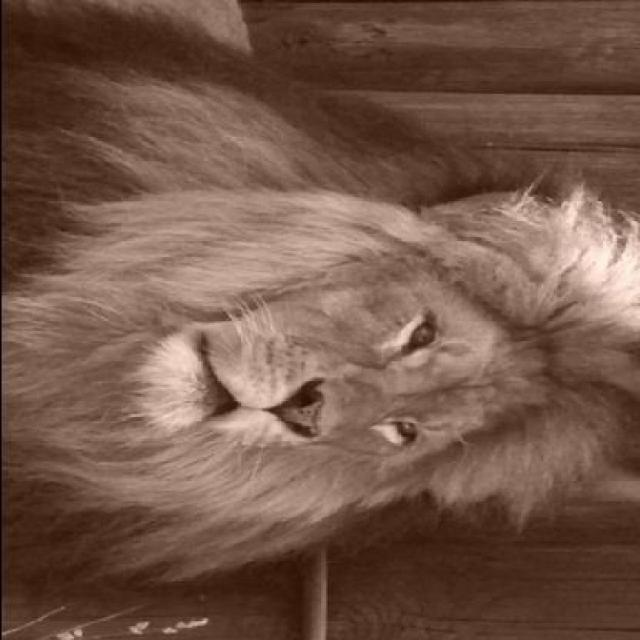Lion: (2, 52, 629, 611)
